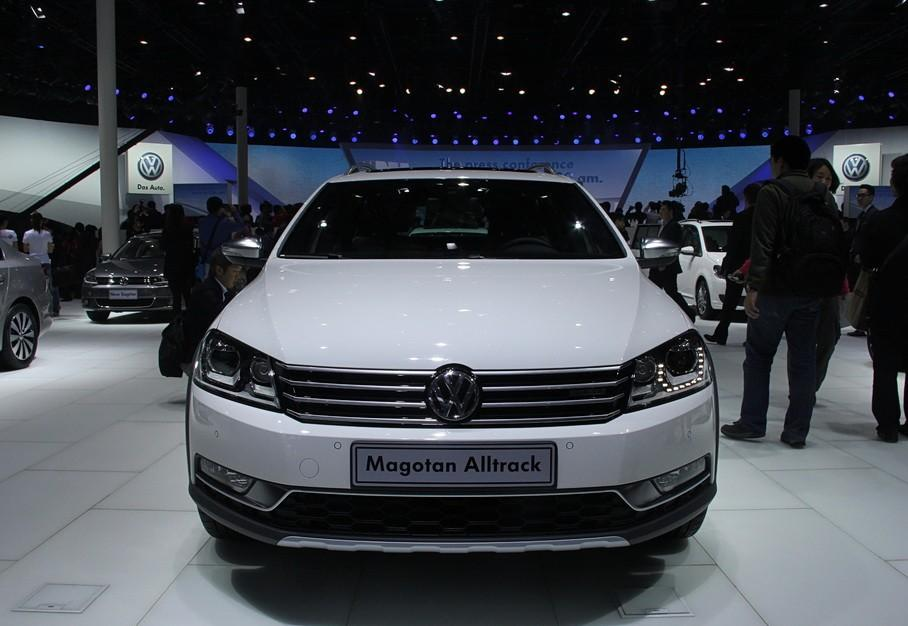Wagon: (183, 163, 721, 560)
